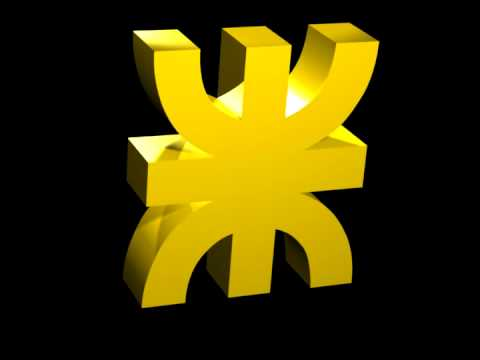utn: (131, 20, 359, 291)
